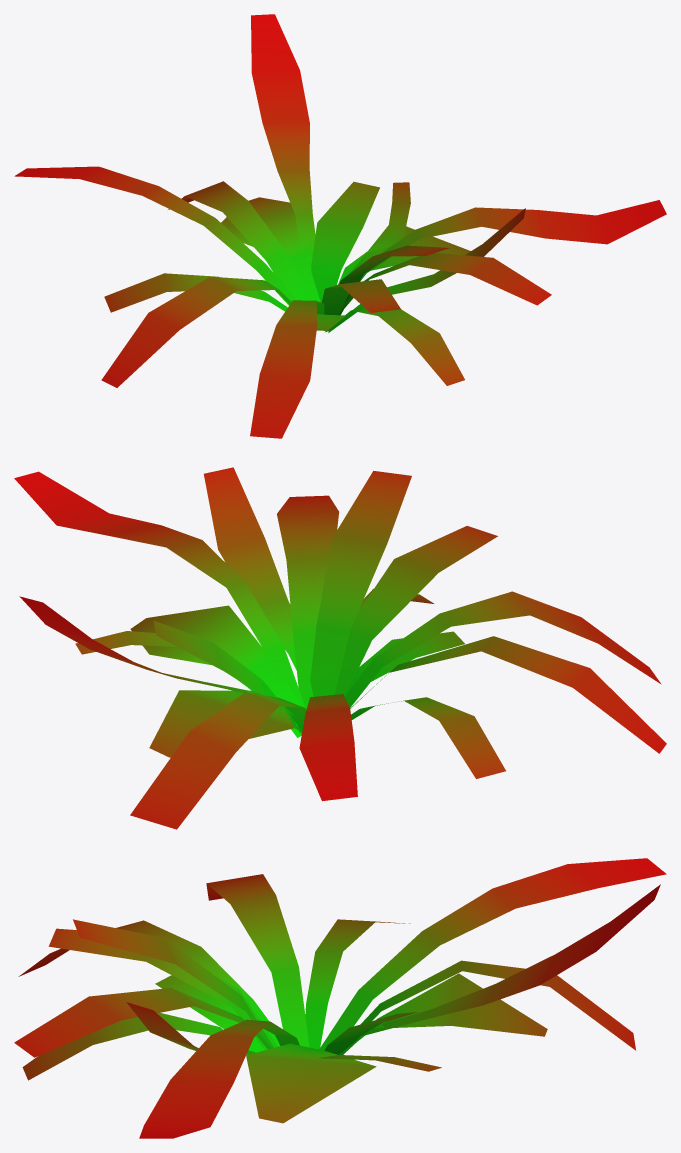
The model's file is Var5_LOD2.fbx.
3 views of the same model, one above another, from view 1: azimuth 30°, elevation 25°; view 2: azimuth 150°, elevation 25°; view 3: azimuth 270°, elevation 25° (orthographic). The views are drawn at different scales.
Visible parts, largest first — view 1: Var5_LOD2; view 2: Var5_LOD2; view 3: Var5_LOD2.
Part boxes in pixels (box(x1,y1,x2,y2)): Var5_LOD2: box(14, 14, 666, 438); Var5_LOD2: box(14, 467, 666, 829); Var5_LOD2: box(14, 858, 666, 1138).
Bounding box in the file's own units: 42.2 × 14.27 × 35.36.
